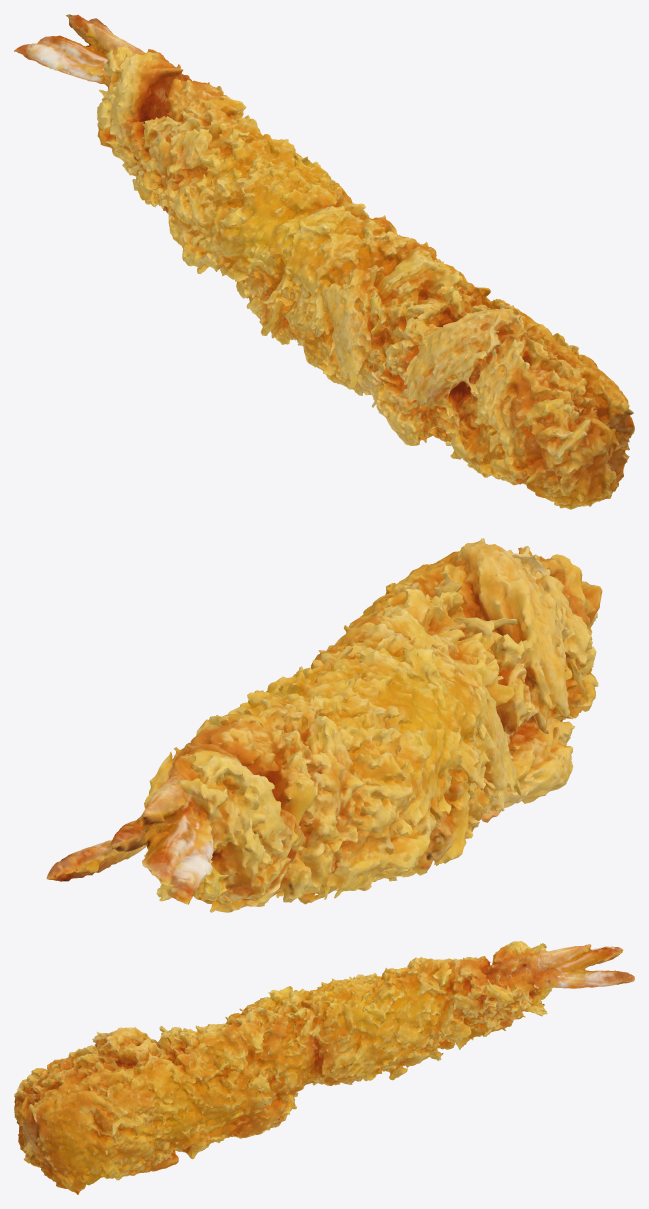
The model's file is fried_shrimp.glb.
3 views of the same model, one above another, from view 1: azimuth 30°, elevation 25°; view 2: azimuth 150°, elevation 25°; view 3: azimuth 270°, elevation 25° (orthographic). The views are drawn at different scales.
Parts seen in each view (by area): view 1: Object_3, Object_2, Object_4; view 2: Object_2, Object_4, Object_3; view 3: Object_2, Object_3, Object_4.
Boxes of the visible parts, x1,y1,x2,y2 form: Object_3: (278, 192, 634, 509); Object_2: (101, 22, 567, 486); Object_4: (14, 14, 568, 359); Object_2: (48, 568, 596, 910); Object_4: (46, 546, 550, 912); Object_3: (310, 538, 602, 872); Object_2: (100, 941, 634, 1180); Object_3: (14, 986, 331, 1194); Object_4: (83, 943, 634, 1088).
Size of the model in its own units: 0.1637 by 0.1739 by 0.5077.
1 material, 1 textured.
